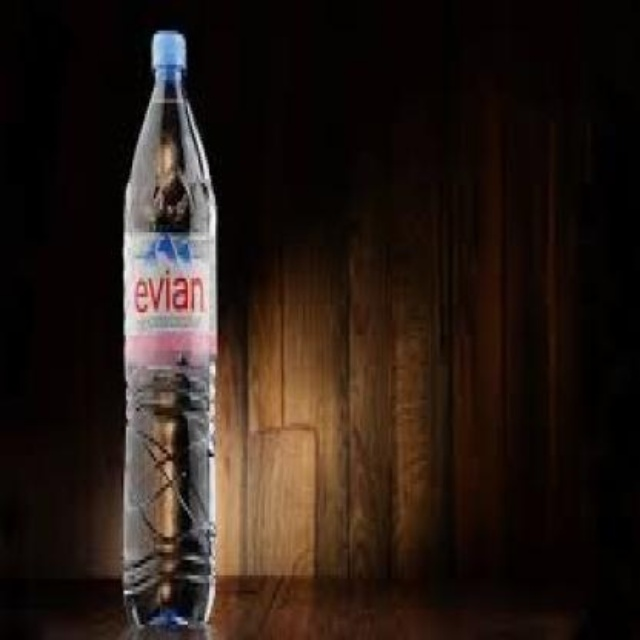trash: (123, 31, 215, 625)
